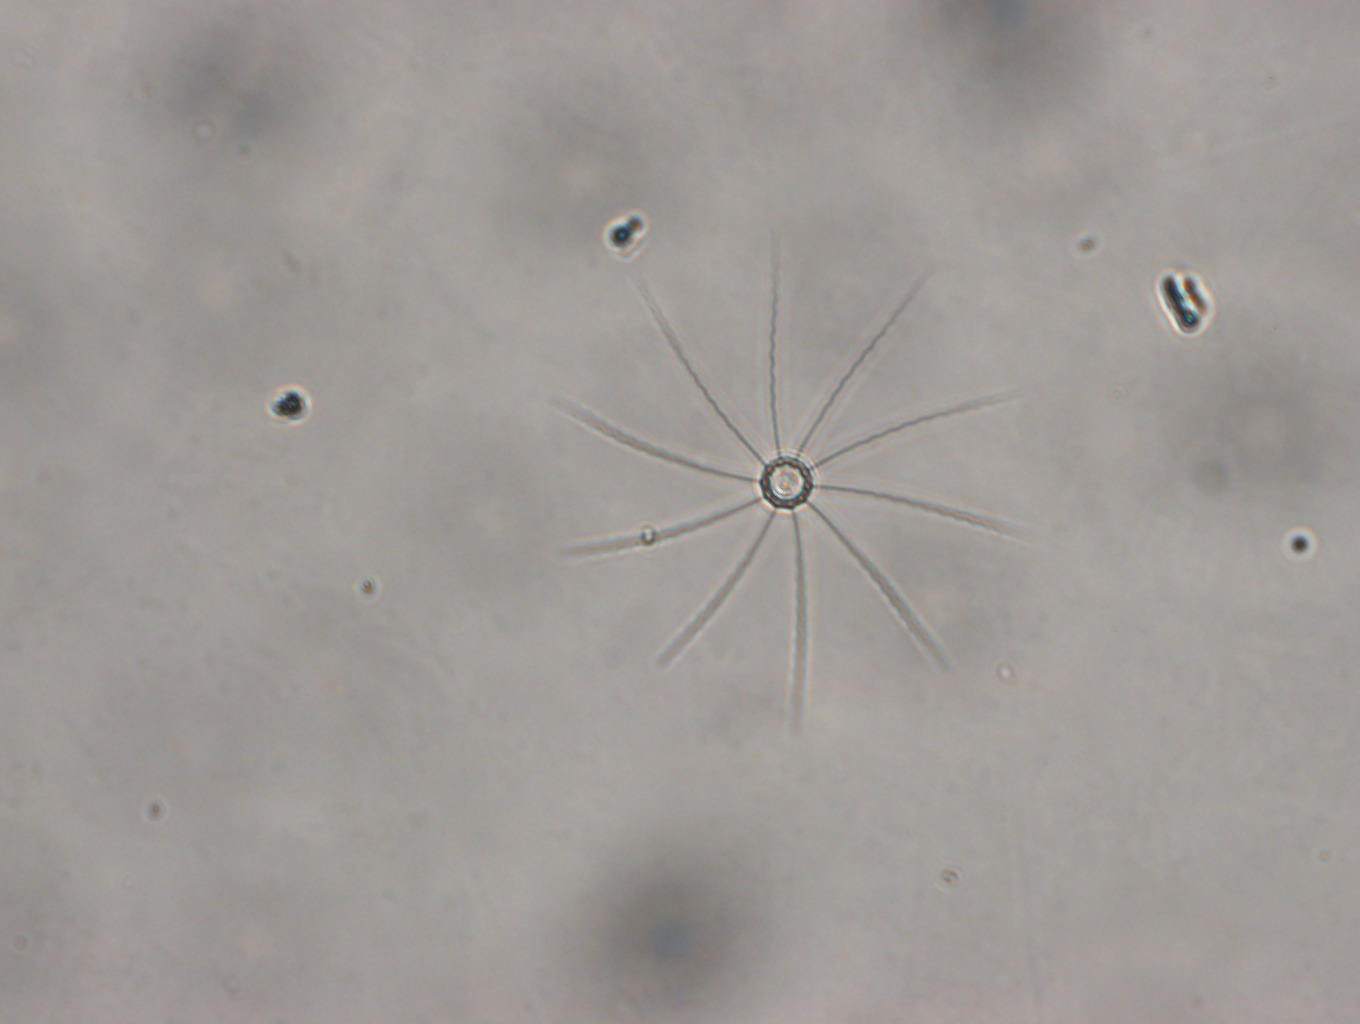bacteriastrum: (550, 232, 1048, 748)
